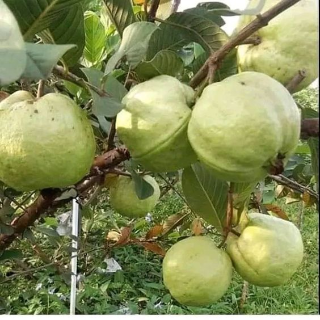oi: (188, 73, 300, 182), (227, 212, 302, 284), (163, 235, 232, 304)
